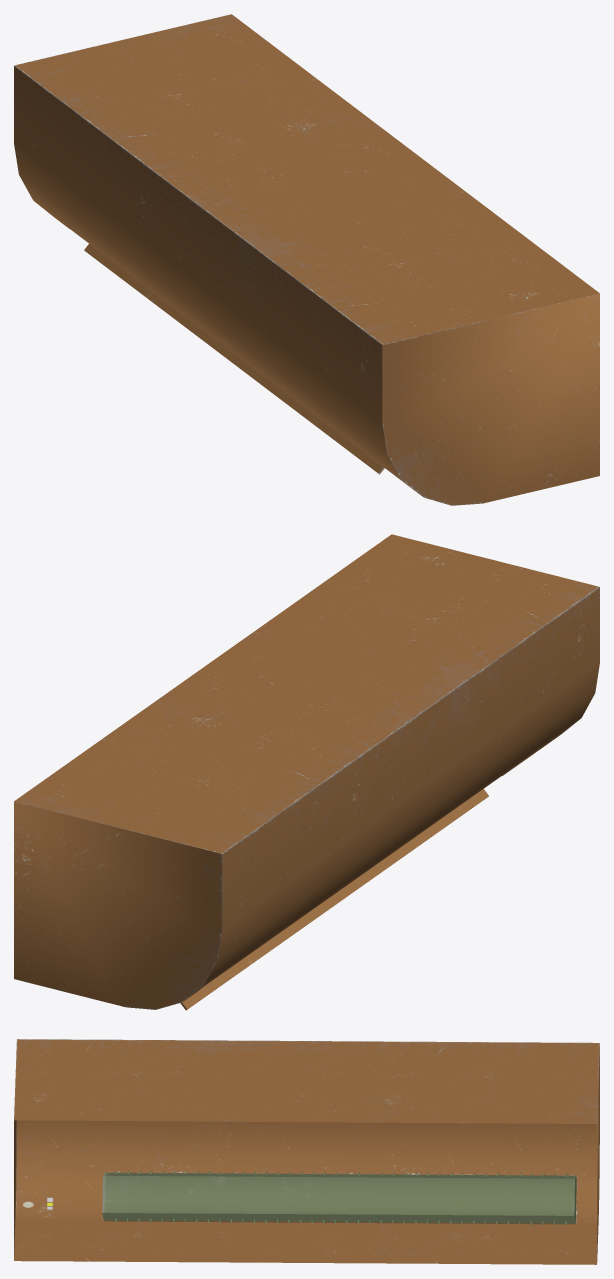
File: BTMT_PNGT_MayLanh.fbx
3 renders of one model, top to bottom at view 1: azimuth 30°, elevation 25°; view 2: azimuth 150°, elevation 25°; view 3: azimuth 270°, elevation 25°, orthographic. The views are drawn at different scales.
Parts seen in each view (by area): view 1: Q_BTMT_PNGT_MayLanh_BTMT_PNGT_MayLanh_Vo, Q_BTMT_PNGT_MayLanh_BTMT_PNGT_MayLanh_CanhGioNgang; view 2: Q_BTMT_PNGT_MayLanh_BTMT_PNGT_MayLanh_Vo, Q_BTMT_PNGT_MayLanh_BTMT_PNGT_MayLanh_CanhGioNgang; view 3: Q_BTMT_PNGT_MayLanh_BTMT_PNGT_MayLanh_Vo, Q_BTMT_PNGT_MayLanh_BTMT_PNGT_MayLanh_Bentrong, Q_BTMT_PNGT_MayLanh_BTMT_PNGT_MayLanh_CanhGioDoc.
Boxes of the visible parts, bbox=[...] form: Q_BTMT_PNGT_MayLanh_BTMT_PNGT_MayLanh_Vo: bbox=[14, 14, 599, 505]; Q_BTMT_PNGT_MayLanh_BTMT_PNGT_MayLanh_CanhGioNgang: bbox=[84, 244, 384, 474]; Q_BTMT_PNGT_MayLanh_BTMT_PNGT_MayLanh_Vo: bbox=[14, 534, 599, 1009]; Q_BTMT_PNGT_MayLanh_BTMT_PNGT_MayLanh_CanhGioNgang: bbox=[180, 789, 488, 1010]; Q_BTMT_PNGT_MayLanh_BTMT_PNGT_MayLanh_Vo: bbox=[14, 1039, 599, 1264]; Q_BTMT_PNGT_MayLanh_BTMT_PNGT_MayLanh_Bentrong: bbox=[102, 1172, 576, 1223]; Q_BTMT_PNGT_MayLanh_BTMT_PNGT_MayLanh_CanhGioDoc: bbox=[115, 1171, 567, 1225].
Size of the model in its own units: 35.43 by 26.87 by 99.12.
